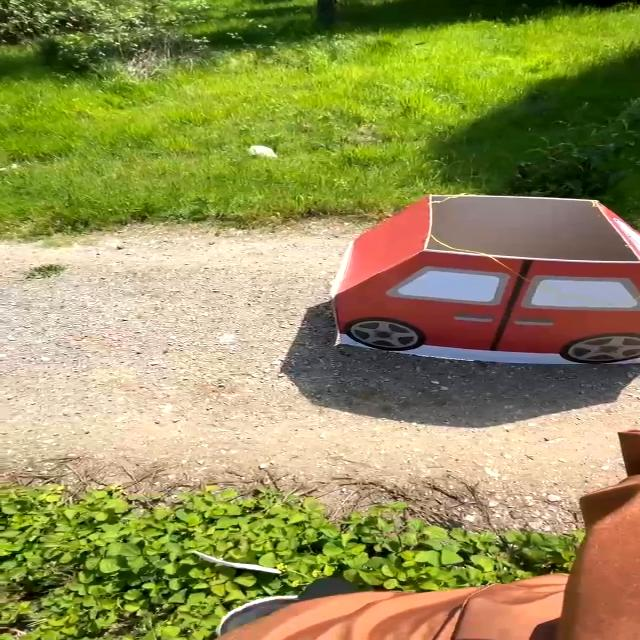red_car: (309, 183, 640, 386)
